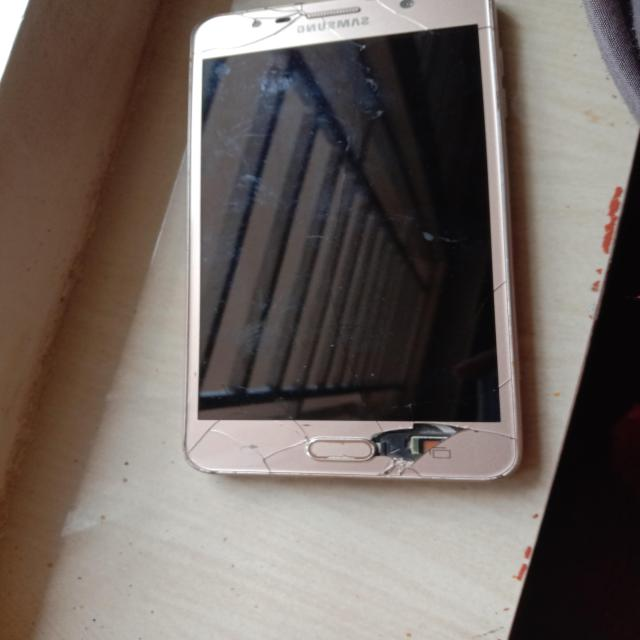mobile: (101, 0, 548, 498)
